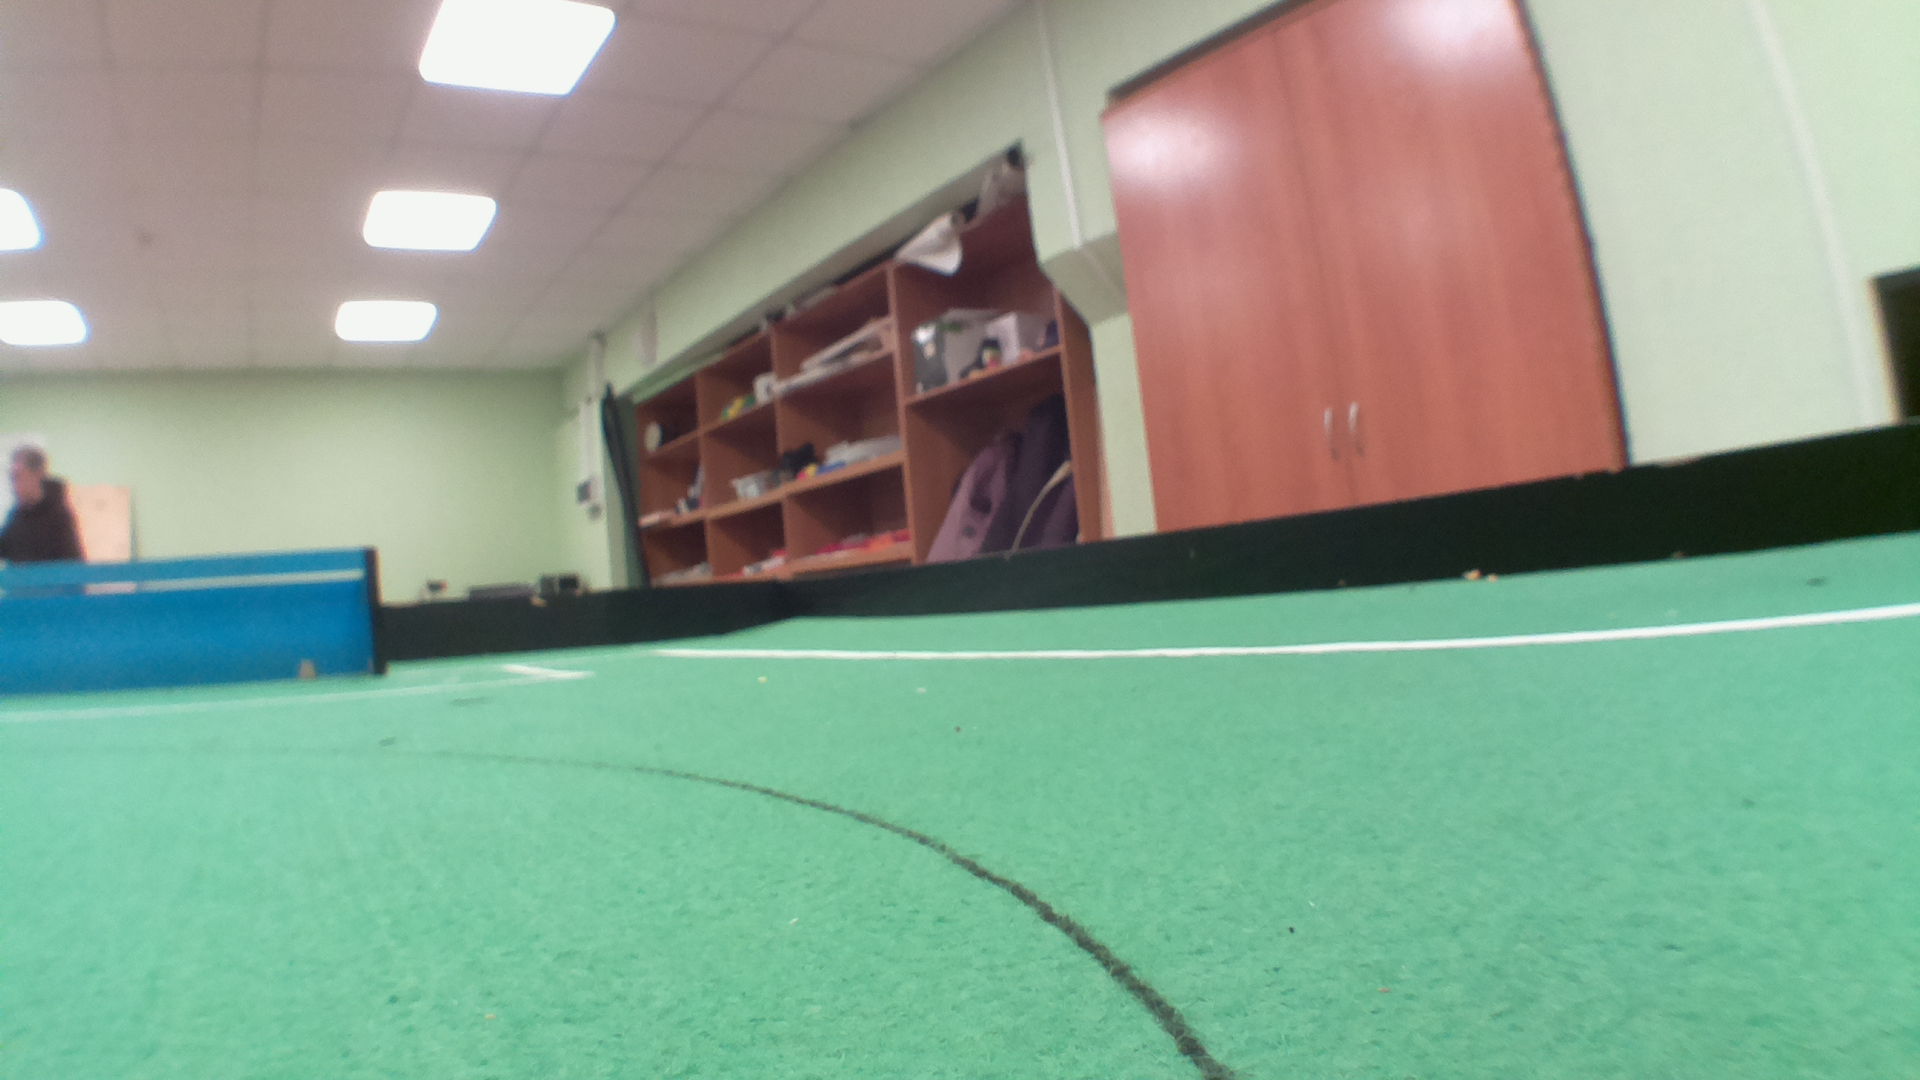BlueGoal: (1, 549, 372, 687)
